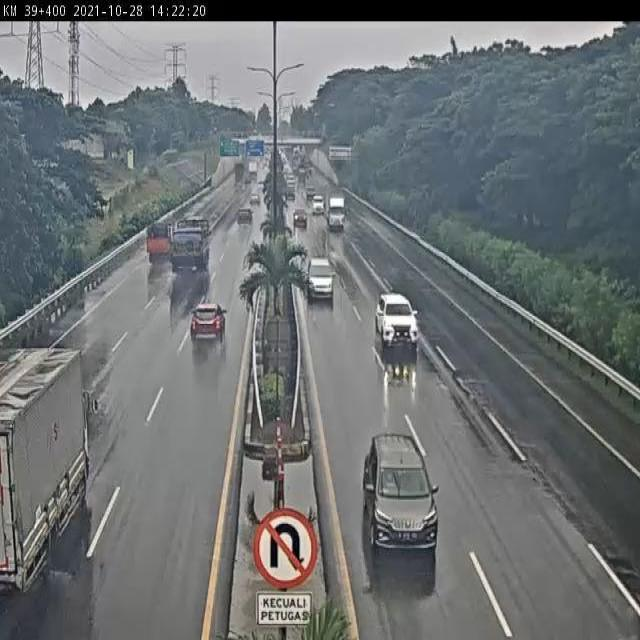ARABA: (365, 436, 438, 552), (369, 280, 419, 348), (300, 243, 337, 297), (188, 302, 228, 350), (235, 207, 257, 232), (311, 191, 325, 220), (294, 205, 309, 227), (249, 186, 262, 206)
KAMYONET: (167, 218, 206, 278), (135, 218, 169, 266), (324, 187, 346, 228)
TIR: (0, 342, 91, 618)
